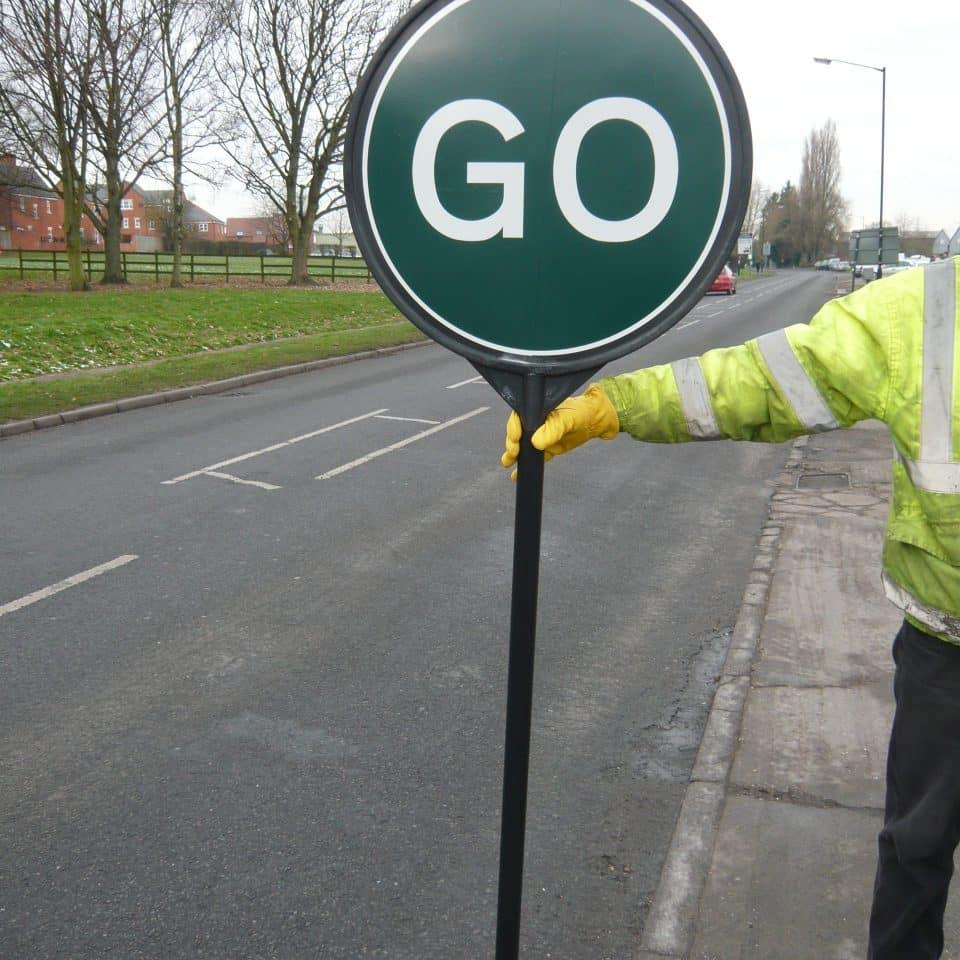Go: (353, 0, 735, 359)
